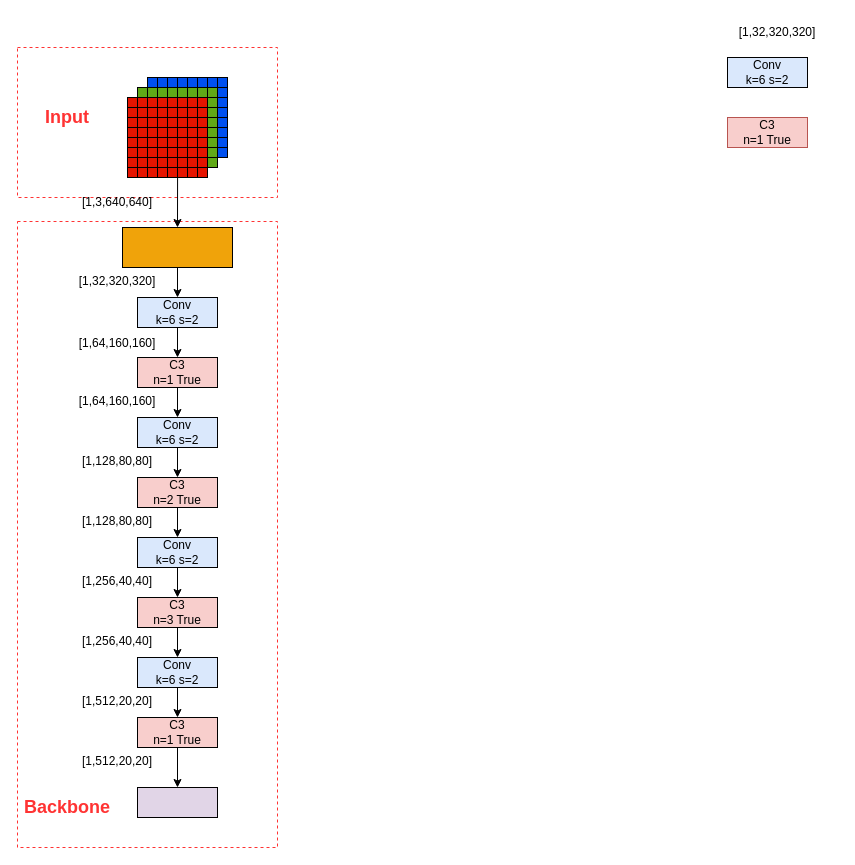
Some shapes in this 855 by 865 pixel diagram are drawn without their labels. The shapes that lost their labels are listed below. From the top down, each one's centre as x and y in pixels, then its label:
At (177,247): "Conv k=6 s=2 p=12".
At (177,802): "SPPF k=5".
